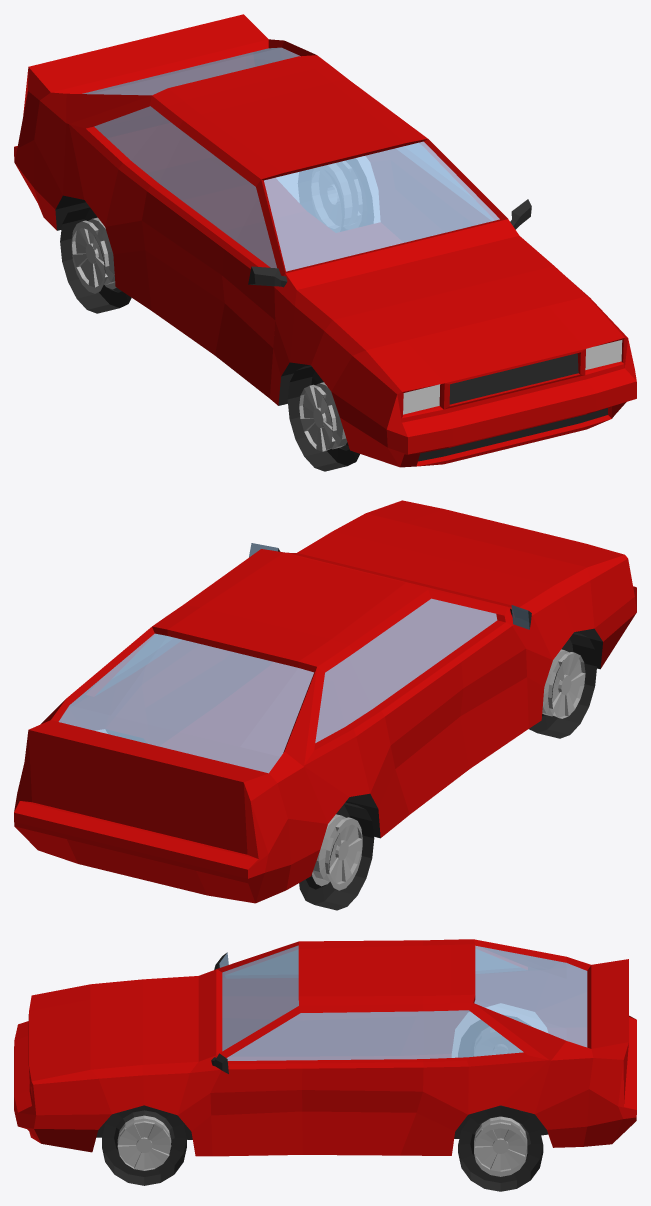
File: vier.fbx
3 renders of one model, top to bottom at view 1: azimuth 30°, elevation 25°; view 2: azimuth 150°, elevation 25°; view 3: azimuth 270°, elevation 25°, orthographic. The views are drawn at different scales.
Visible parts, largest first — view 1: Cube; view 2: Cube; view 3: Cube.
Boxes of the visible parts, x1,y1,x2,y2 form: Cube: (14,14,636,471); Cube: (14,500,636,910); Cube: (14,939,636,1191).
Size of the model in its own units: 202 by 149 by 489.
